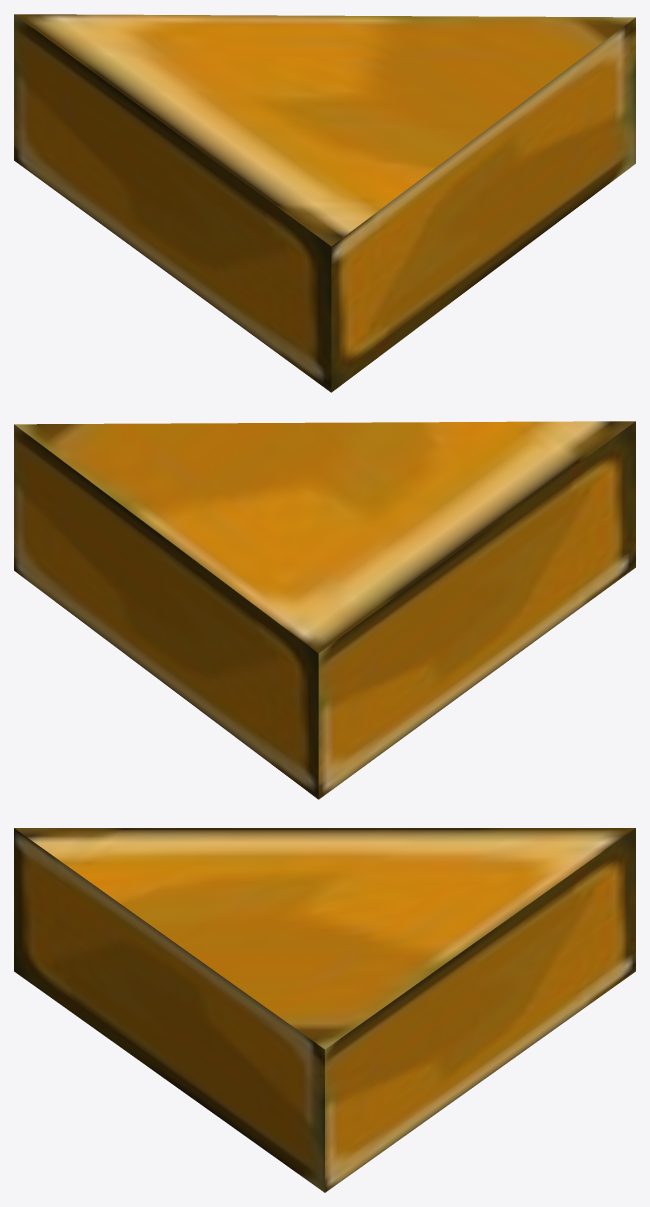
The model's file is Yellow triangle.fbx.
The picture shows the model from 3 angles, top to bottom: view 1: azimuth 30°, elevation 25°; view 2: azimuth 150°, elevation 25°; view 3: azimuth 270°, elevation 25°; orthographic projection. The views are drawn at different scales.
Parts seen in each view (by area): view 1: Cube.1492; view 2: Cube.1492; view 3: Cube.1492.
Boxes of the visible parts, <box> form: Cube.1492: <box>14,14,635,392</box>; Cube.1492: <box>14,421,635,799</box>; Cube.1492: <box>14,828,635,1192</box>.
Size of the model in its own units: 52.83 by 15.94 by 62.68.
